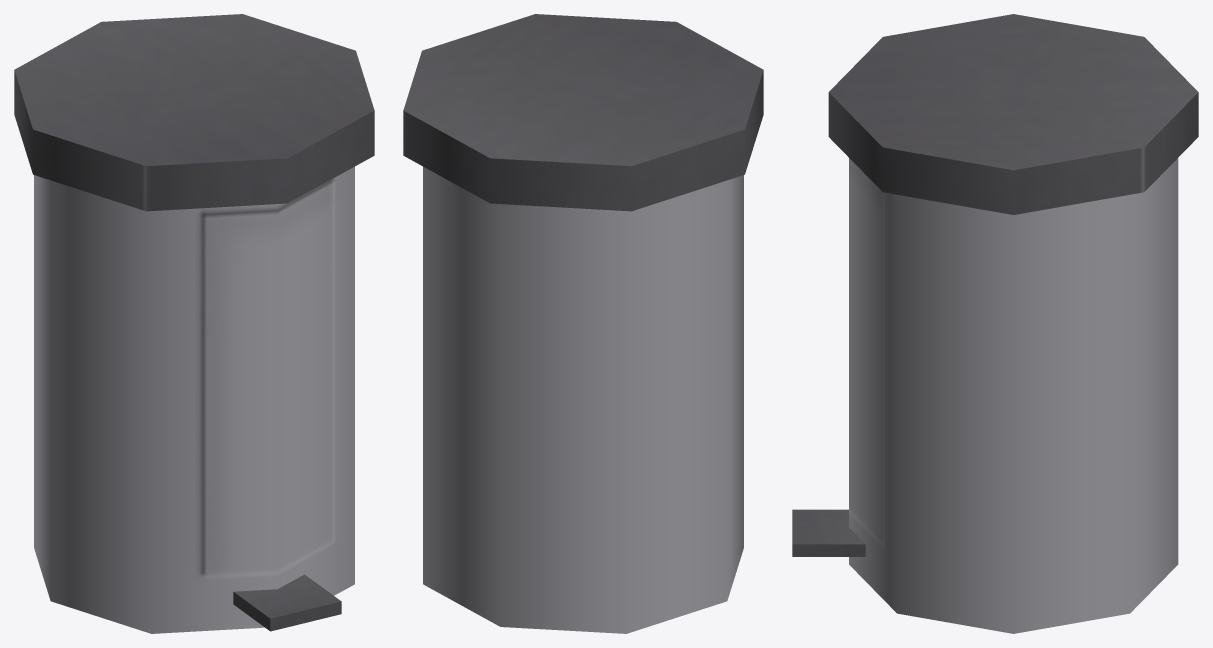
The model's file is DustBin_2.fbx.
The picture shows the model from 3 angles, left to right: view 1: azimuth 30°, elevation 25°; view 2: azimuth 150°, elevation 25°; view 3: azimuth 270°, elevation 25°; orthographic projection.
Visible parts, largest first — view 1: polySurface1526; view 2: polySurface1526; view 3: polySurface1526.
Boxes of the visible parts, <box> form: polySurface1526: <box>14,14,374,633</box>; polySurface1526: <box>403,14,763,633</box>; polySurface1526: <box>792,14,1198,633</box>.
Size of the model in its own units: 0.6735 by 0.9486 by 0.7395.
